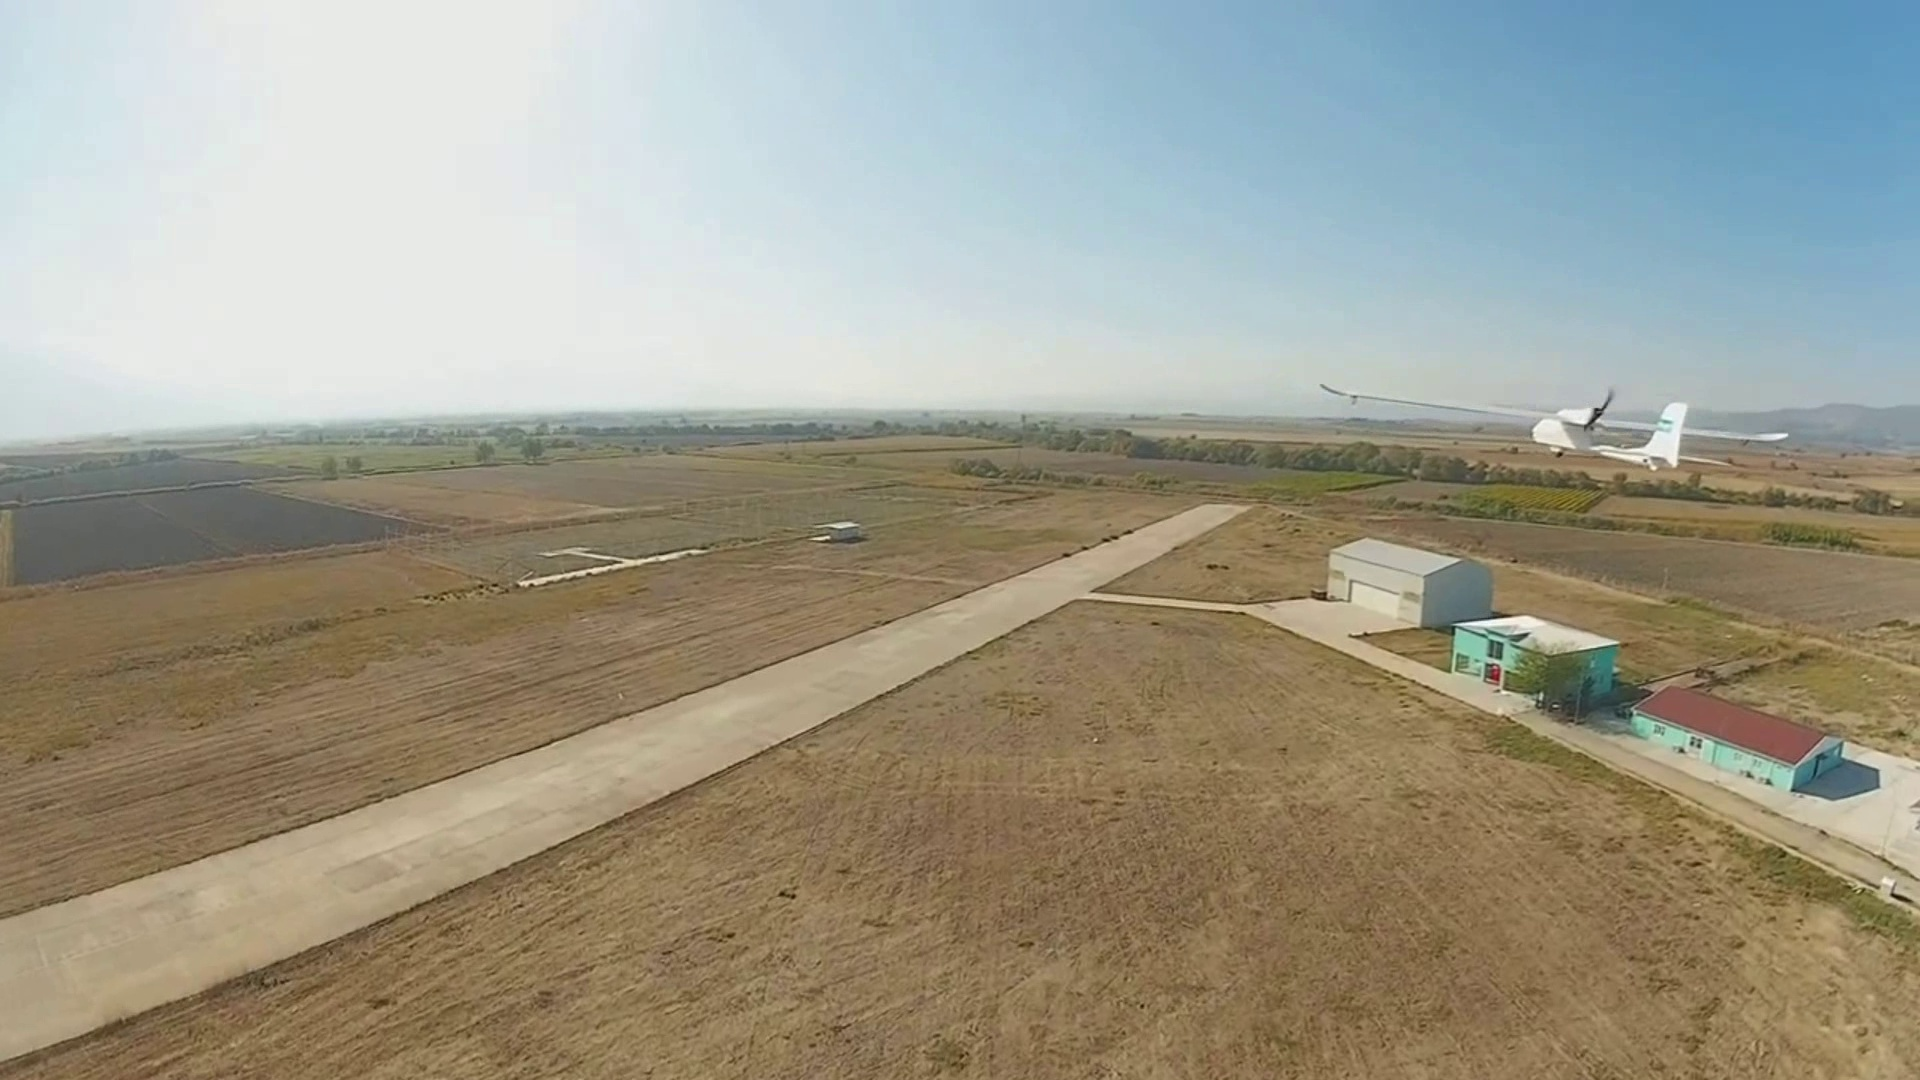airplane: (1316, 379, 1694, 469)
